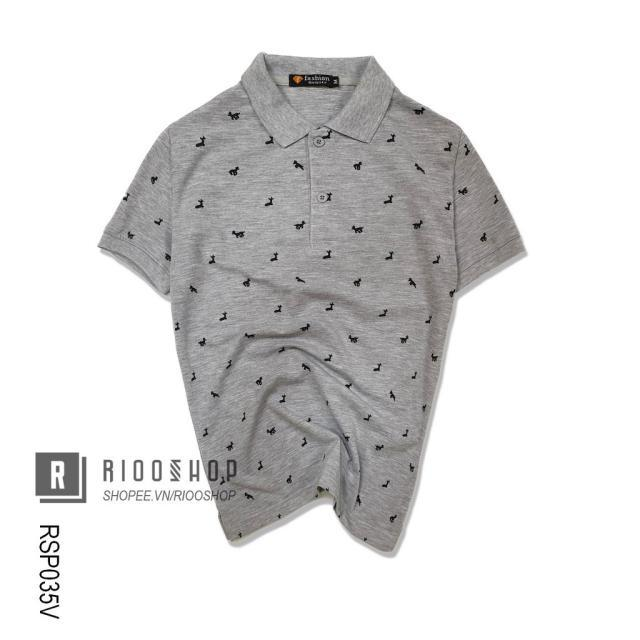Shirt: (96, 55, 532, 558)
